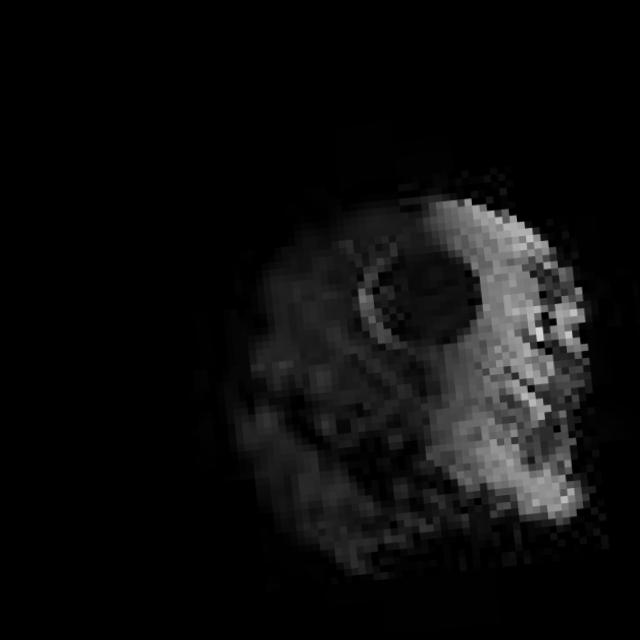Death Star: (195, 155, 632, 608)
